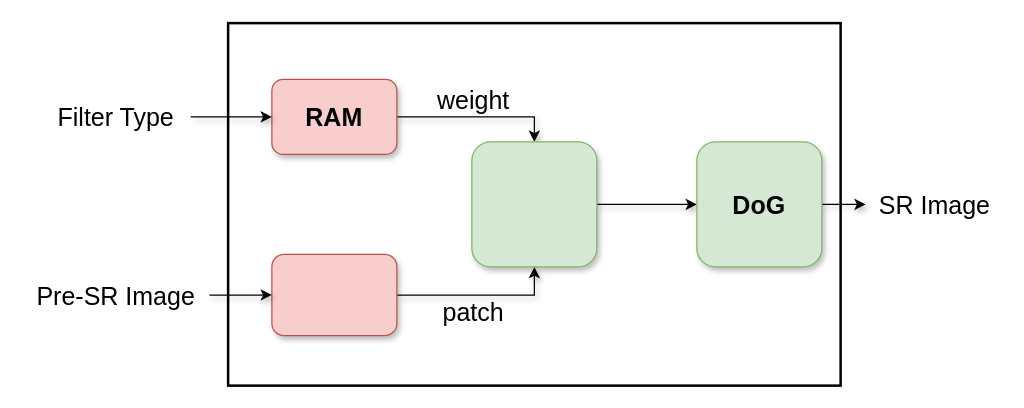
Some shapes in this 1024 by 408 pixel diagram are drawn without their labels. Each missing label, with the centre of its shape:
CONV: the point at 535,206
Padding Buffer: the point at 335,296
